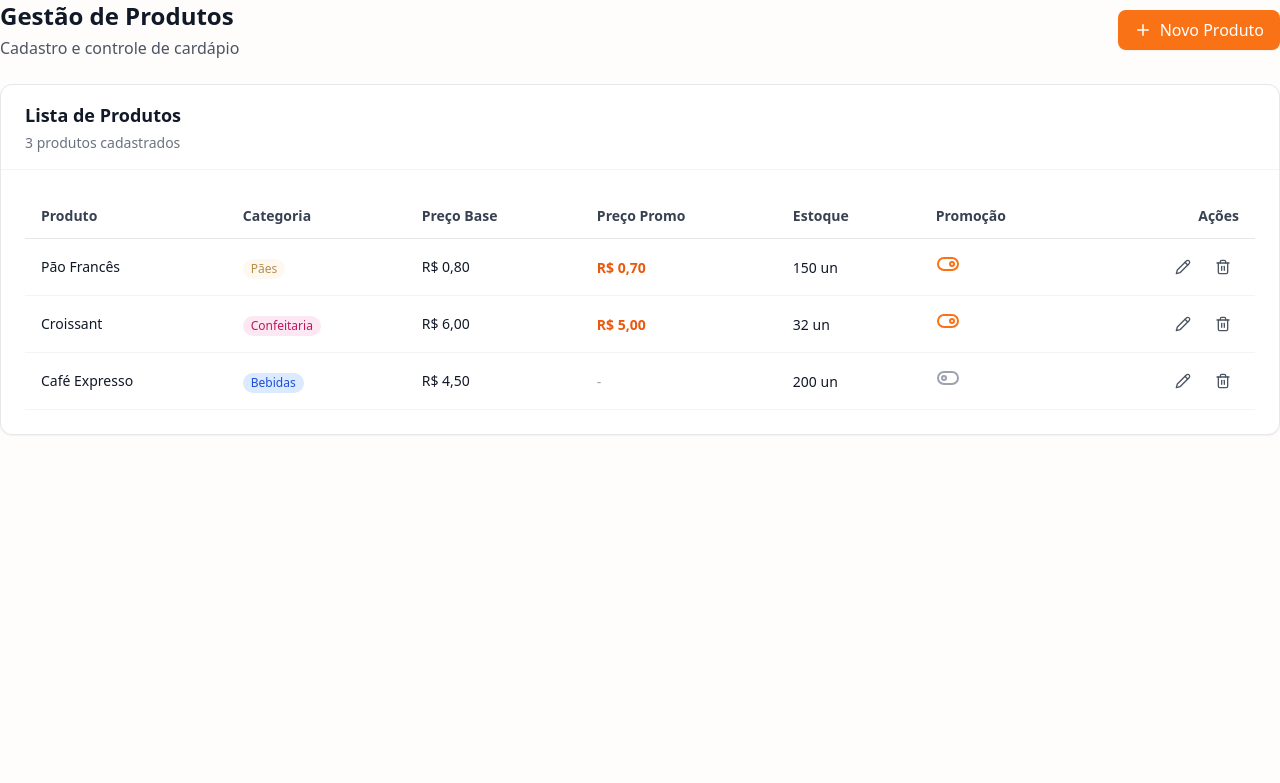
Test: Products › Create Product › closes form on cancel
Expected: the text "Pão Francês" is shown, top-left (41, 257), bottom-right (120, 277)
Click the button "Novo Produto" at (1199, 30), box top-left (1118, 10), bottom-right (1279, 50)
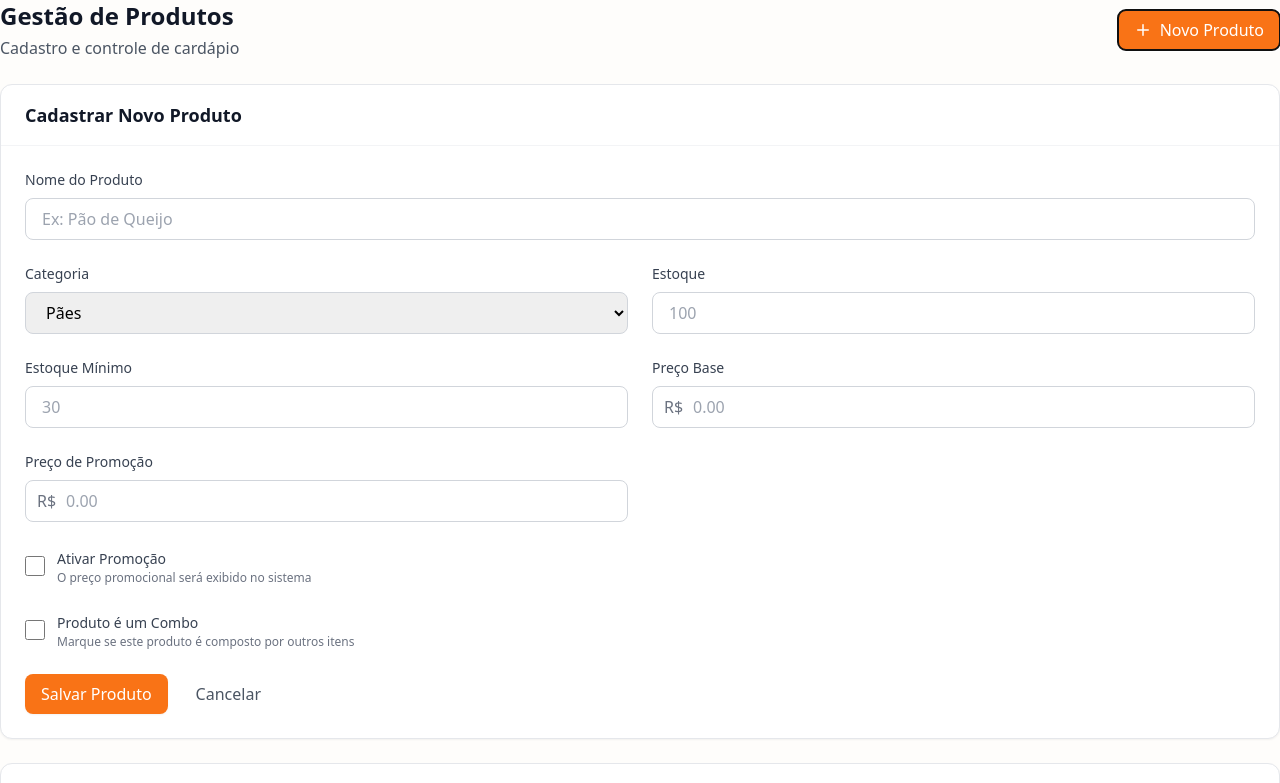
Expected: the heading "Cadastrar Novo Produto" is shown, top-left (25, 101), bottom-right (242, 129)
Click the button "Cancelar" at (228, 694), box top-left (180, 674), bottom-right (277, 714)
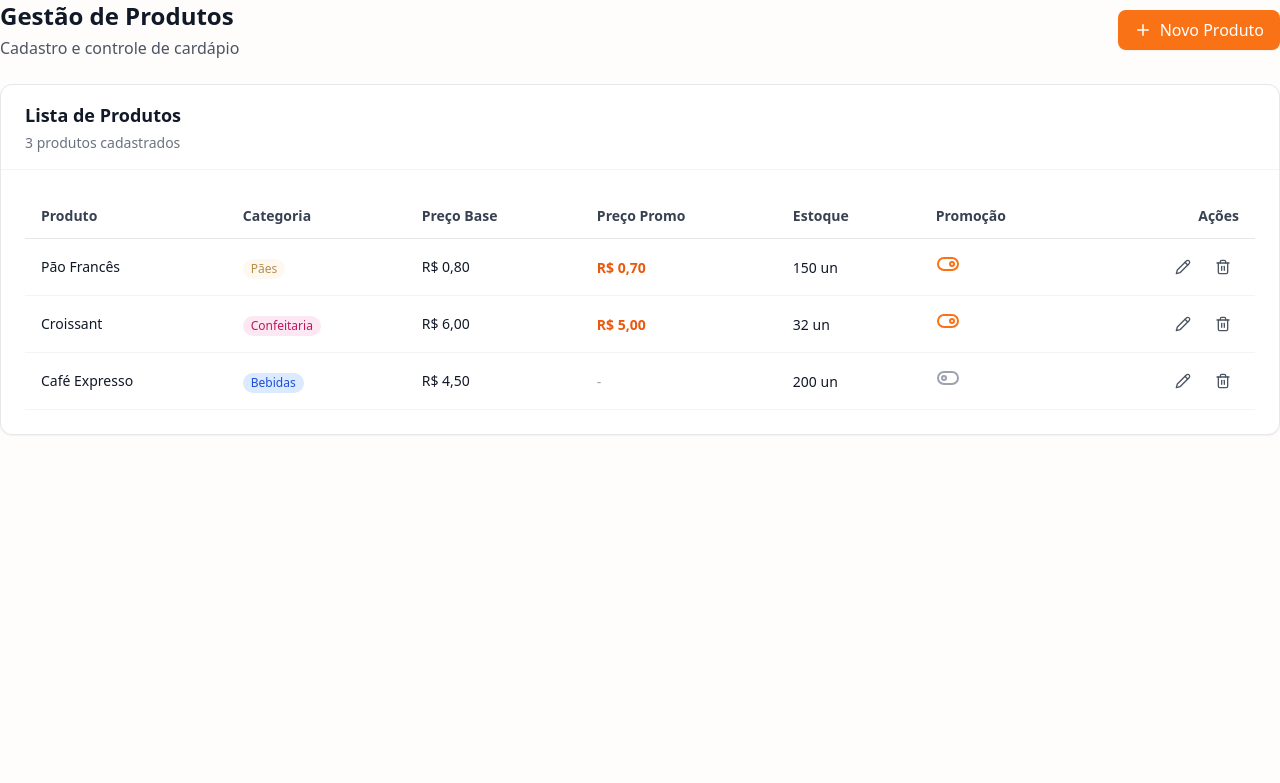
Expected: the heading "Cadastrar Novo Produto" is gone
